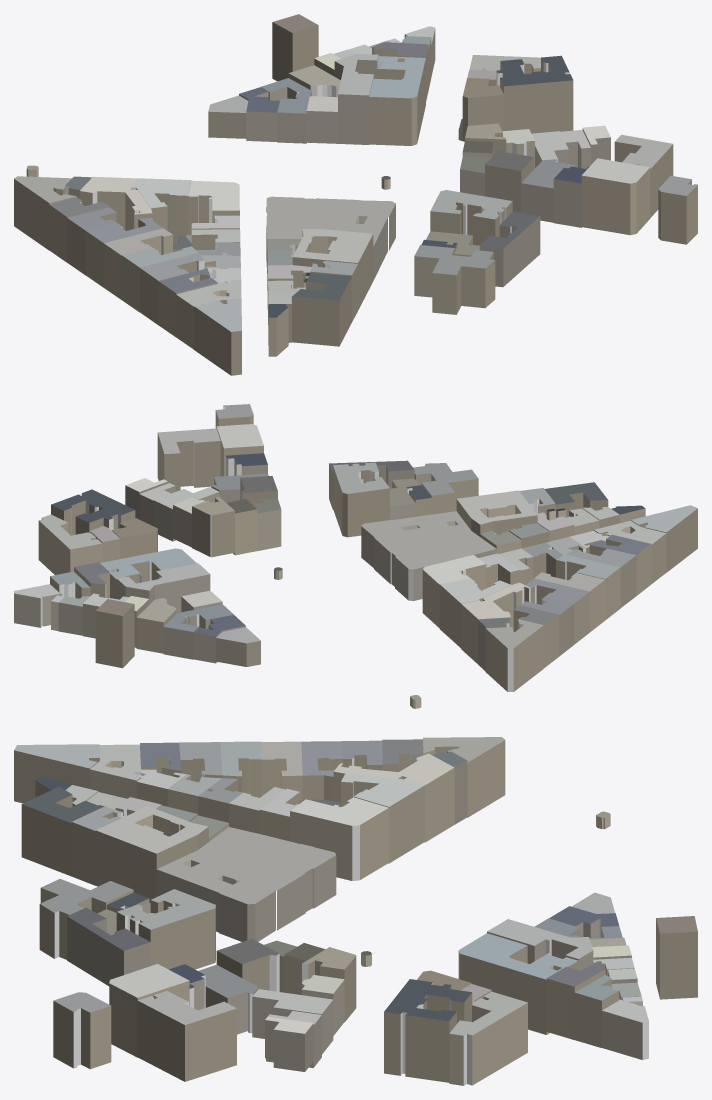
The picture shows the model from 3 angles, top to bottom: view 1: azimuth 30°, elevation 25°; view 2: azimuth 150°, elevation 25°; view 3: azimuth 270°, elevation 25°; orthographic projection. The views are drawn at different scales.
Visible parts, largest first — view 1: tuile; view 2: tuile; view 3: tuile.
Boxes of the visible parts, box(x1,y1,x2,y2) form: tuile: box(14, 14, 697, 375); tuile: box(14, 404, 697, 708); tuile: box(14, 737, 697, 1085).
Bounding box in the file's own units: 272 × 31 × 263.
